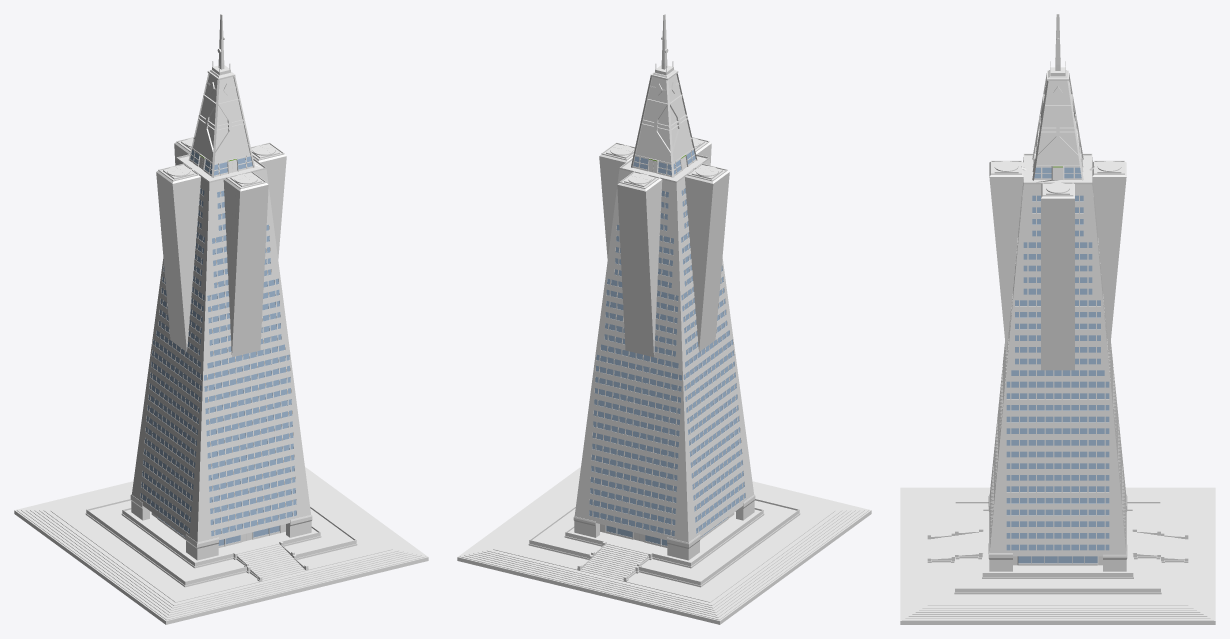
Rendered from skyscraper.glb.
The picture shows the model from 3 angles, left to right: view 1: azimuth 30°, elevation 25°; view 2: azimuth 150°, elevation 25°; view 3: azimuth 270°, elevation 25°; orthographic projection. The views are drawn at different scales.
Visible parts, largest first — view 1: Model; view 2: Model; view 3: Model.
Boxes of the visible parts, x1,y1,x2,y2 form: Model: (14, 14, 428, 624); Model: (457, 14, 871, 624); Model: (900, 14, 1215, 624).
Bounding box in the file's own units: 0.92 × 1.75 × 0.92.
